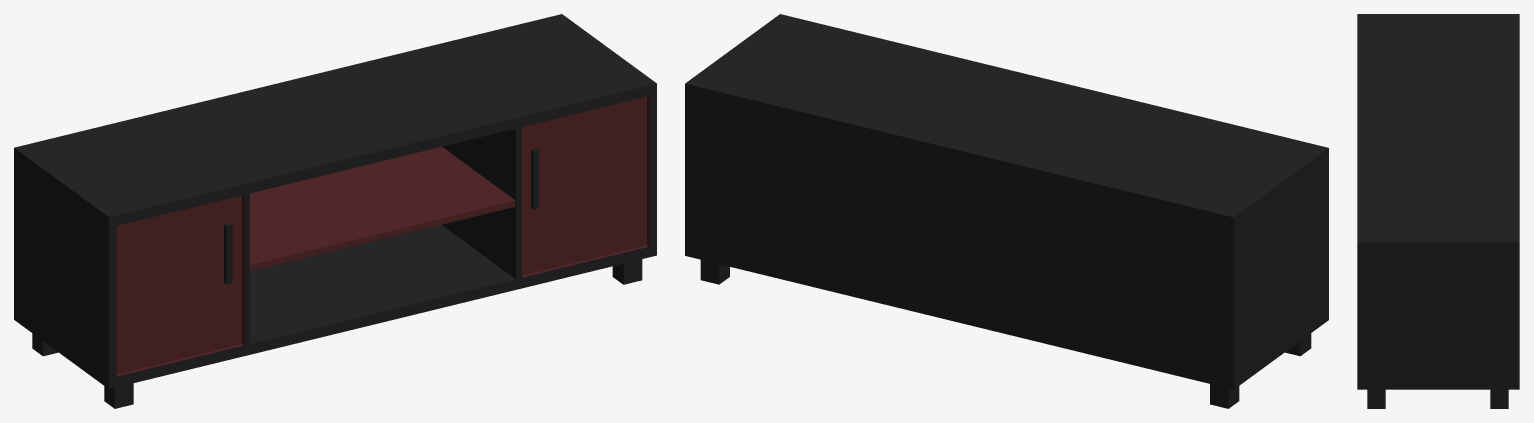
File: TvStand.fbx
3 renders of one model, left to right at view 1: azimuth 30°, elevation 25°; view 2: azimuth 150°, elevation 25°; view 3: azimuth 270°, elevation 25°, orthographic. The views are drawn at different scales.
Visible parts, largest first — view 1: tv table, Door.R, Door.L; view 2: tv table; view 3: tv table.
Boxes of the visible parts, x1,y1,x2,y2 form: tv table: [14, 14, 656, 408]; Door.R: [116, 195, 241, 374]; Door.L: [522, 96, 646, 275]; tv table: [685, 14, 1328, 408]; tv table: [1357, 14, 1519, 408].
Size of the model in its own units: 2 by 0.6937 by 0.601.
